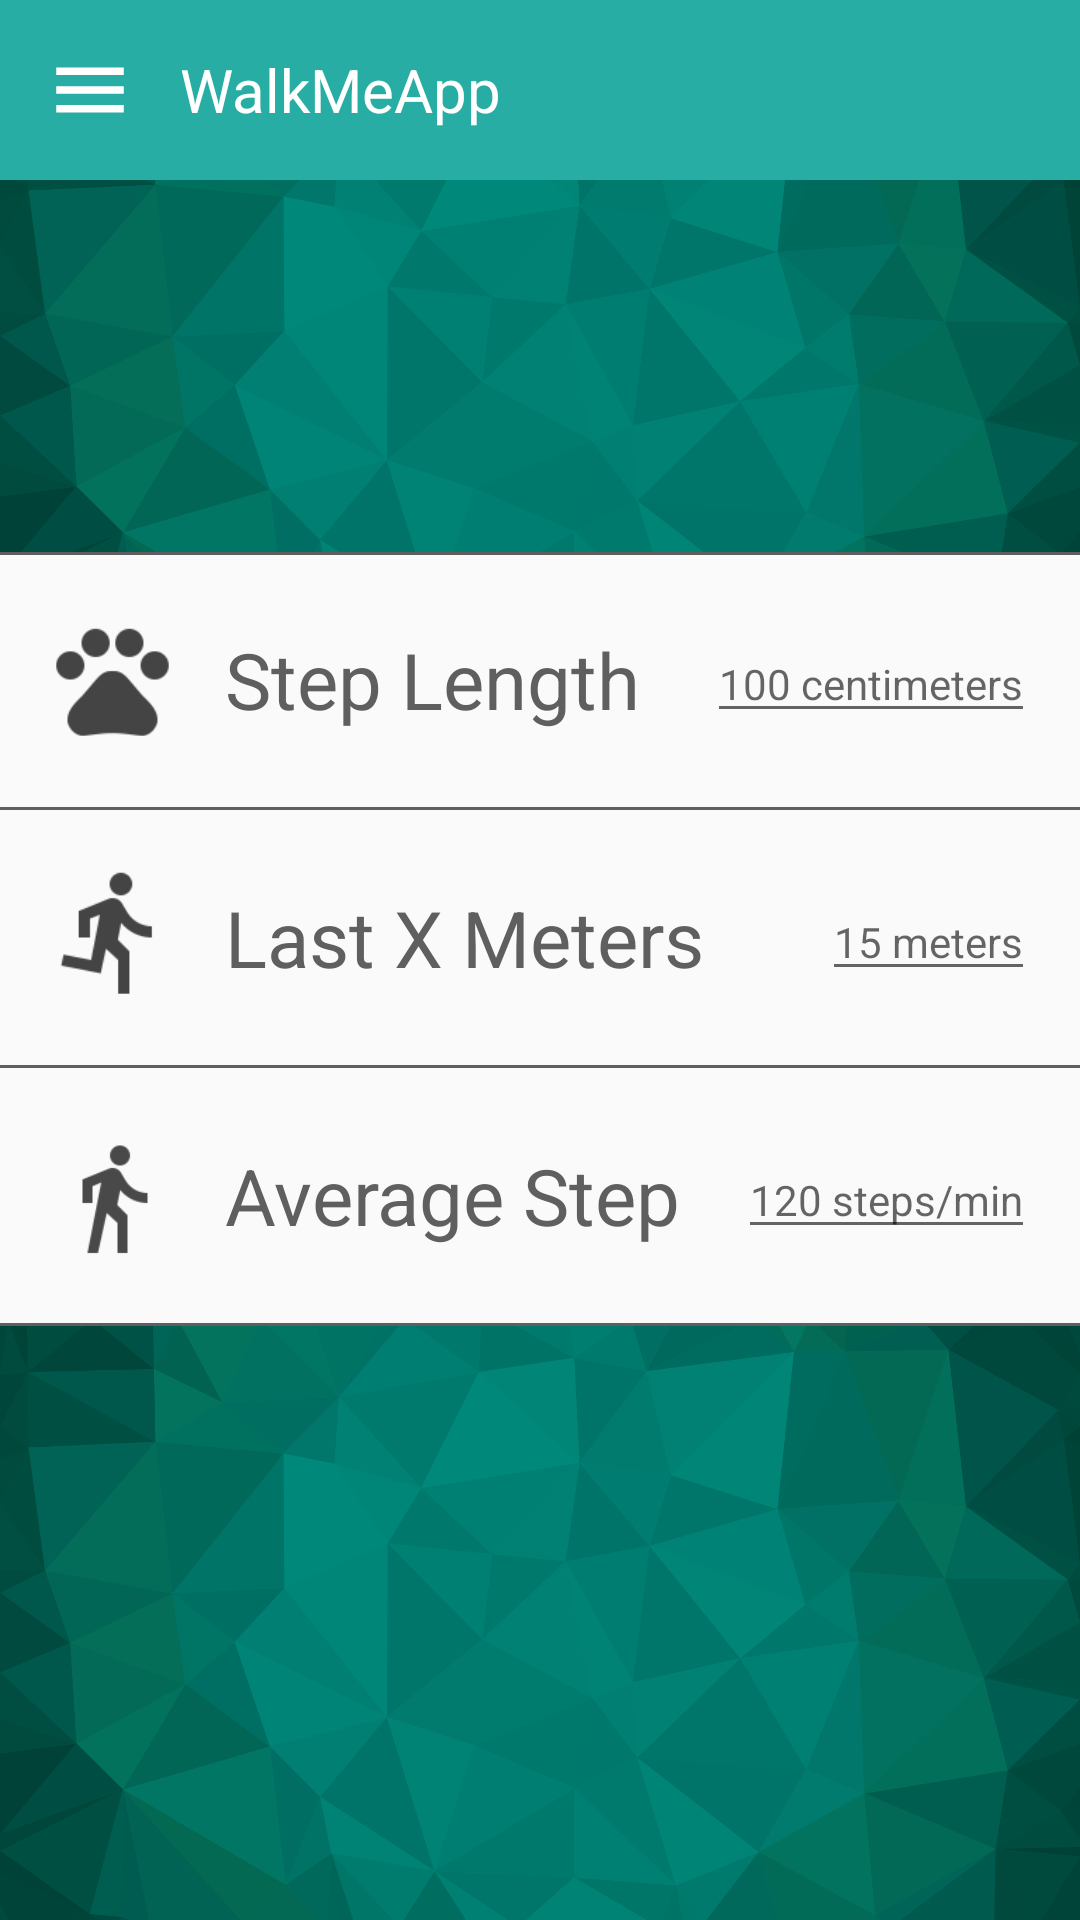

Named icons in this screenshot (1080px×1920px) and their centers, (x,y):
menu: (90,90)
